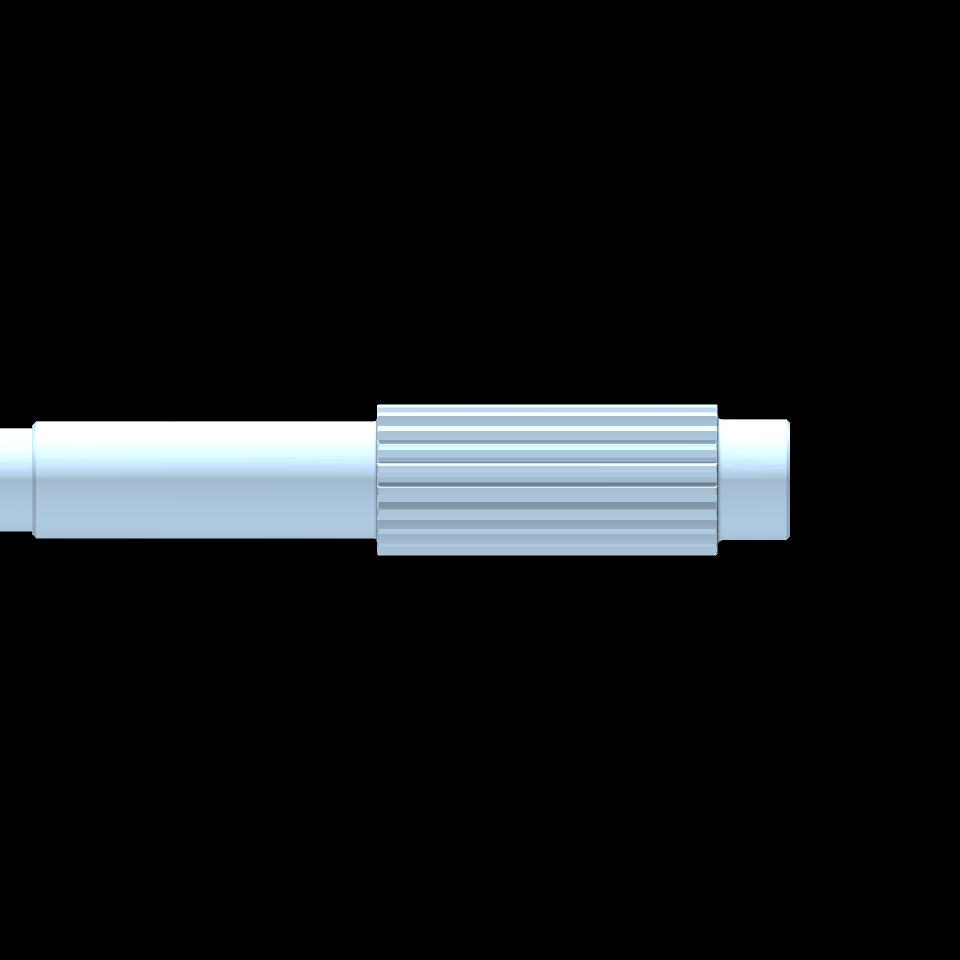Straight: (378, 404, 719, 555)
